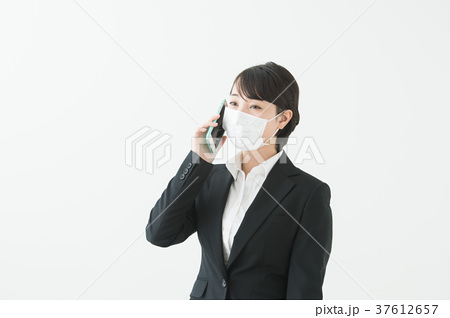mask: (220, 108, 269, 150)
